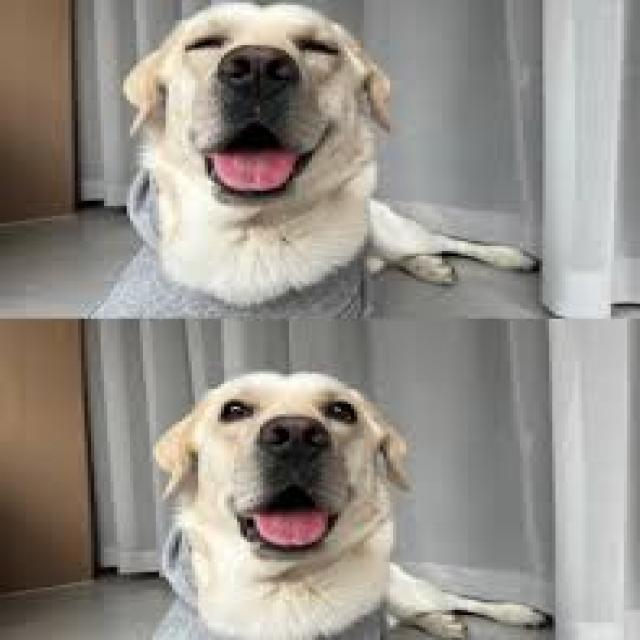Abrador: (126, 4, 393, 308), (154, 372, 415, 640)
